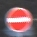No entry: (5, 6, 32, 32)
